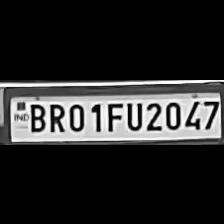0: (64, 100, 86, 132), (161, 98, 181, 130)
1: (86, 100, 104, 132)
2: (144, 98, 162, 132)
4: (182, 97, 202, 129)
7: (200, 96, 220, 130)
B: (27, 100, 46, 132)
F: (104, 99, 122, 131)
R: (46, 100, 66, 132)
U: (124, 98, 142, 130)
